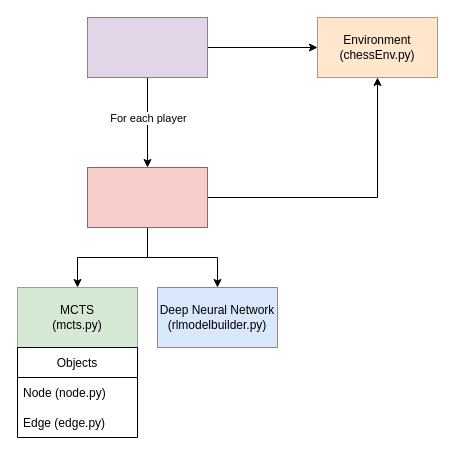
This 455x455 diagram has some shape labels left out. The shapes that lost their labels are listed below. From the top down, each one's centre as x and y in pixels, then its label:
point 147,47: Game (main.py)
point 147,197: Agent (agent.py)
